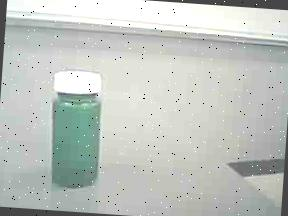Bottle C: (32, 61, 126, 197)
